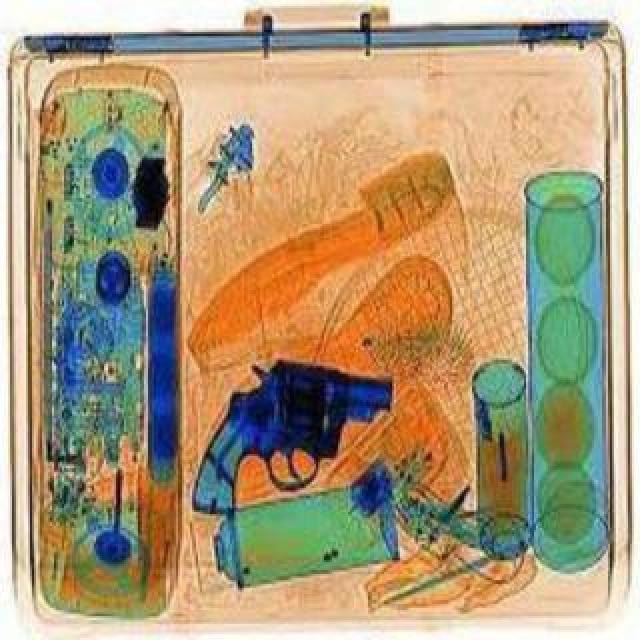gun: (194, 364, 398, 524)
